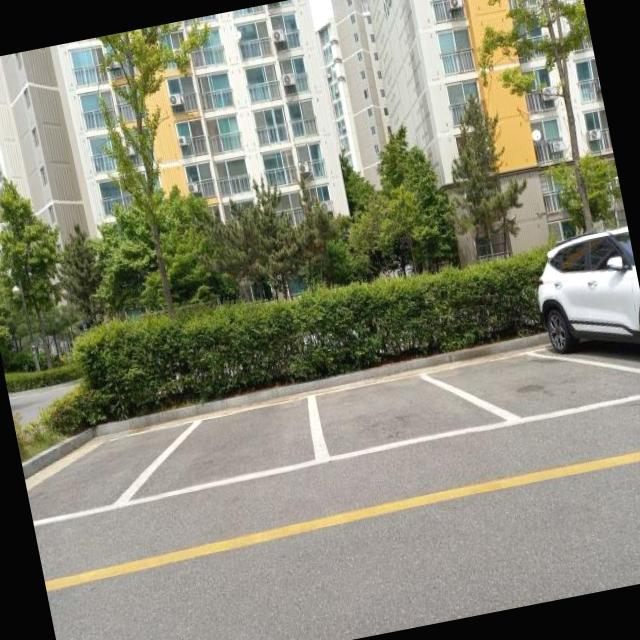free: (310, 359, 497, 468), (19, 410, 187, 528), (174, 382, 326, 502), (481, 329, 622, 436)
